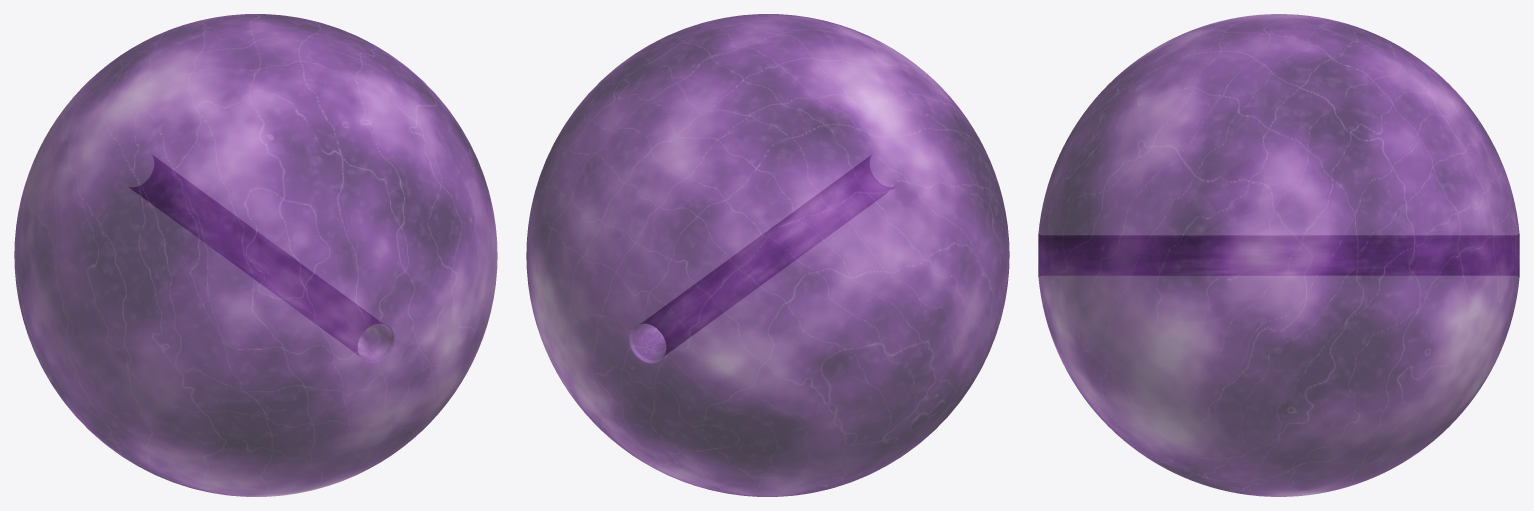
Rendered from amethyst-12mm.glb.
The picture shows the model from 3 angles, left to right: view 1: azimuth 30°, elevation 25°; view 2: azimuth 150°, elevation 25°; view 3: azimuth 270°, elevation 25°; orthographic projection.
Parts seen in each view (by area): view 1: amethyst.001; view 2: amethyst.001; view 3: amethyst.001.
Boxes of the visible parts, x1,y1,x2,y2 form: amethyst.001: (14, 14, 497, 496); amethyst.001: (526, 14, 1009, 496); amethyst.001: (1038, 14, 1519, 496).
Size of the model in its own units: 0.012 by 0.012 by 0.012.
Materials: 2 (1 with a texture image).
